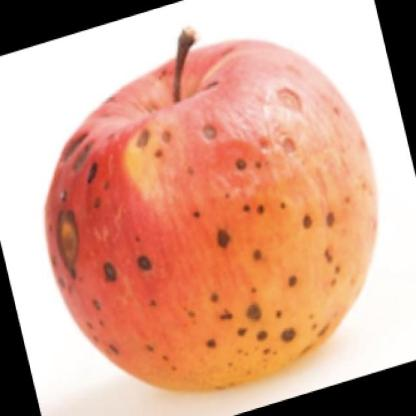defect: (46, 46, 376, 392)
